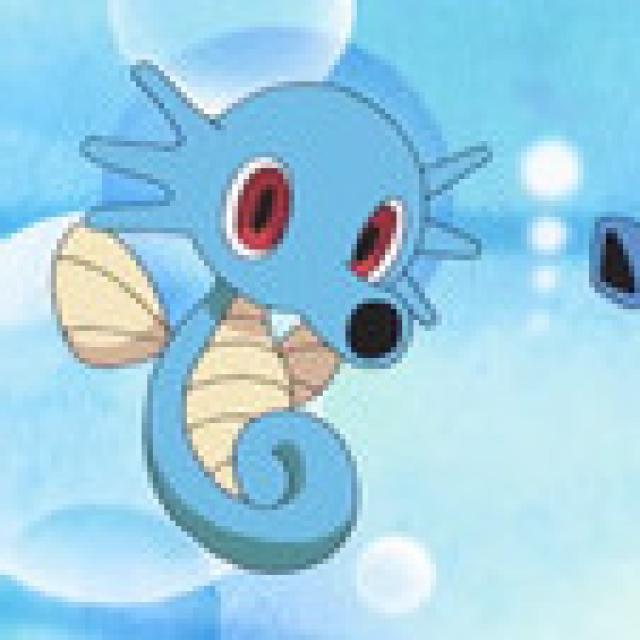Horsea: (40, 62, 480, 583)
